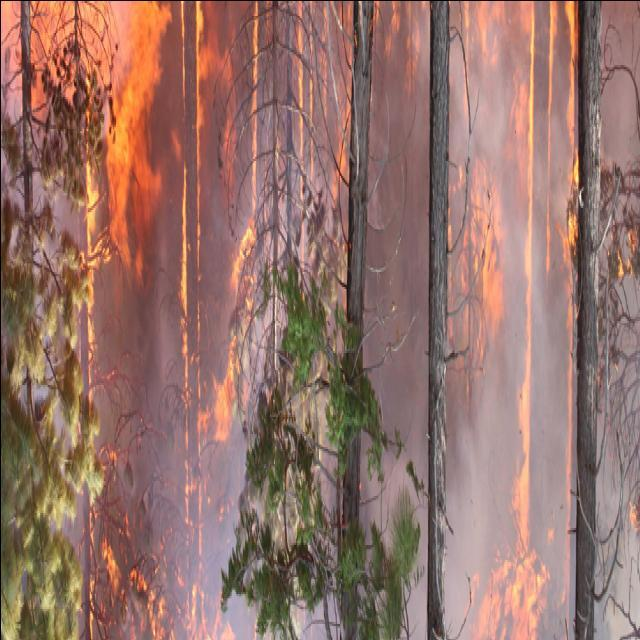Fire: (0, 0, 277, 632), (380, 0, 572, 640)
